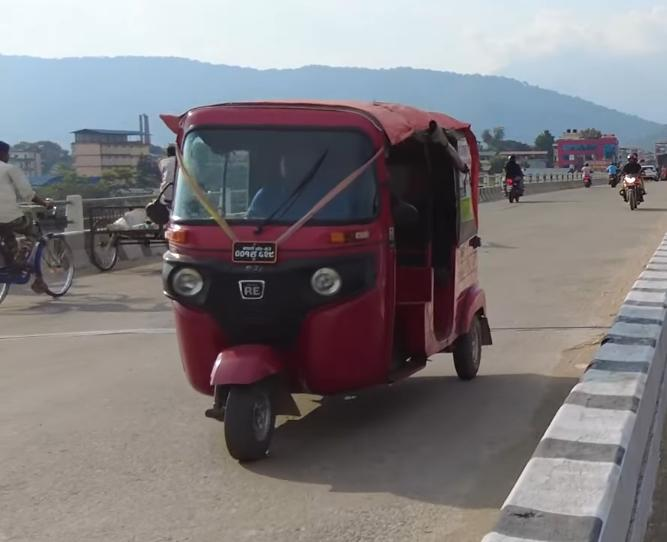auto_rickshaw: (151, 83, 501, 467)
